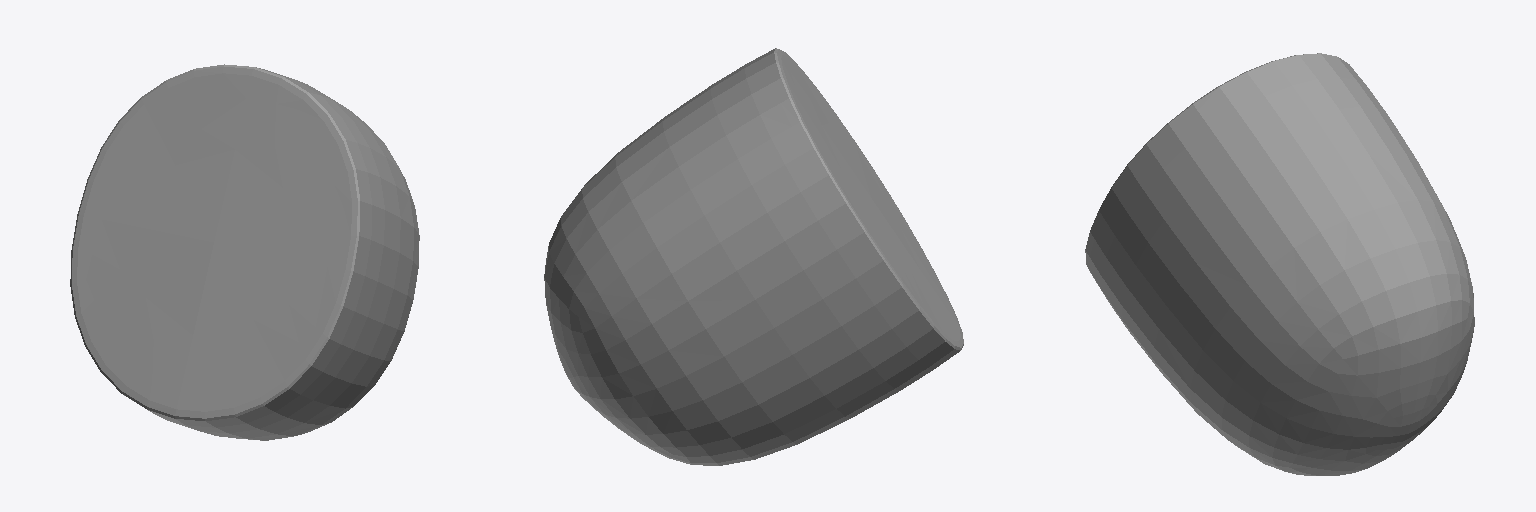
Rendered from kiwi.obj.
The picture shows the model from 3 angles: view 1: azimuth 30°, elevation 25°; view 2: azimuth 150°, elevation 25°; view 3: azimuth 270°, elevation 25°; orthographic projection.
Parts seen in each view (by area): view 1: kiwi_cutted_Cube.013; view 2: kiwi_cutted_Cube.013; view 3: kiwi_cutted_Cube.013.
Part boxes in pixels (x1,y1,x2,y2): kiwi_cutted_Cube.013: (70,64,419,440); kiwi_cutted_Cube.013: (544,48,963,465); kiwi_cutted_Cube.013: (1085,53,1474,475).
Bounding box in the file's own units: 1.64 × 1.73 × 1.59.